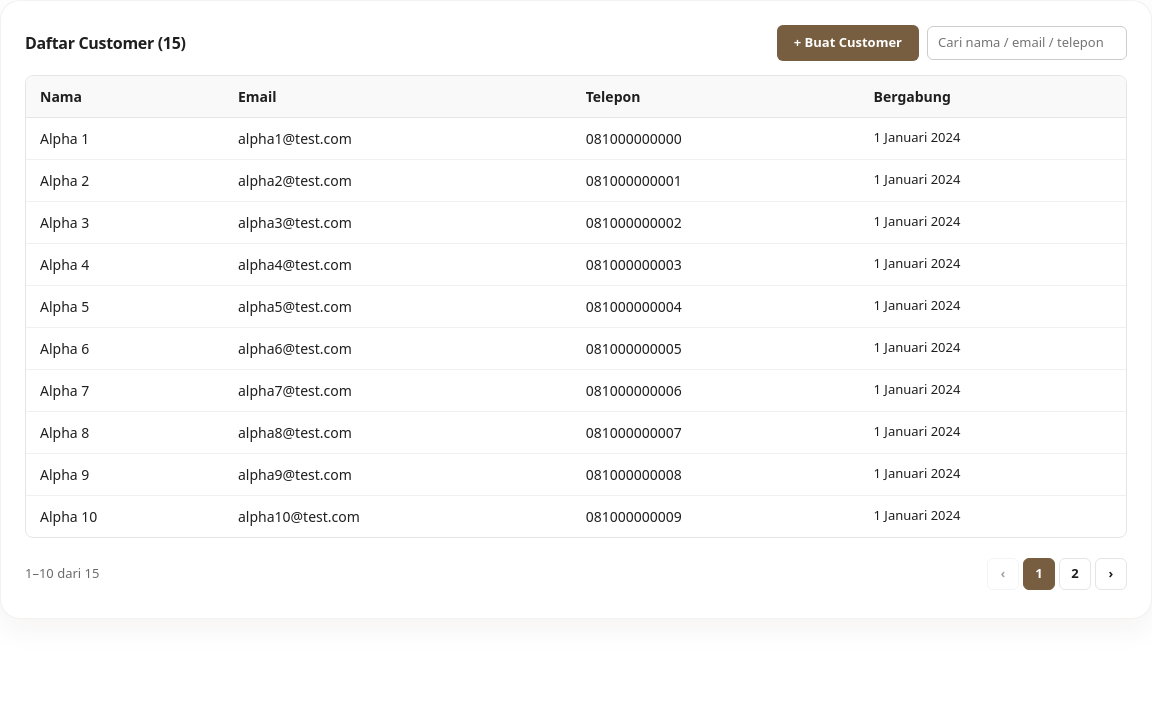
Test case: Preservation 3.3 — Pagination displays correct pages › search resets to page 1 and paginates filtered results correctly
# Search for "Beta" — should show 5 results, no pagination needed
Type "Beta" into the search field with placeholder "Cari nama / email / telepon…".
click(1027, 43); type("Beta")  # box [927,26,1127,60]
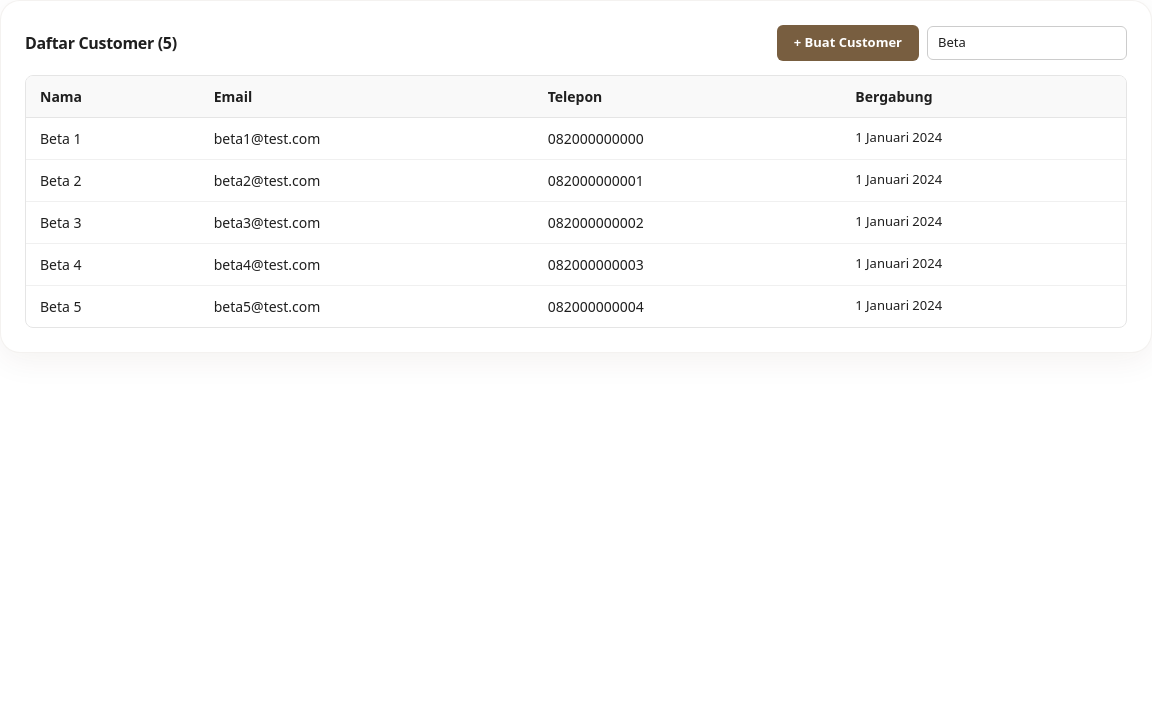
Expected: the text "Alpha 1" is gone
Expected: the heading "Daftar Customer (5)" is shown, [25,34,177,52]
Expected: the button "›" is gone
